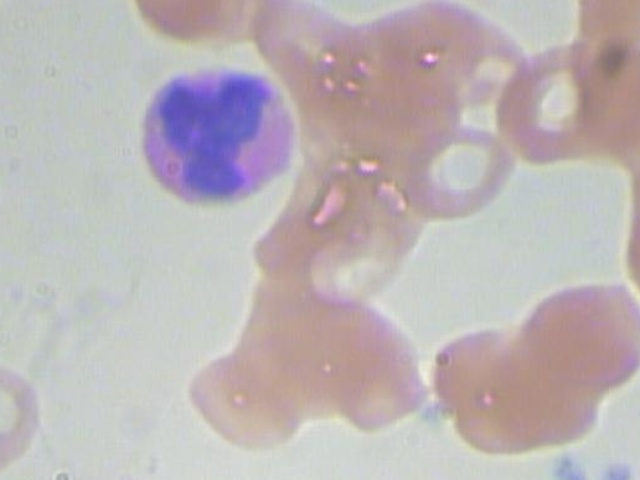Platelets: (549, 447, 596, 480), (594, 452, 640, 480)
RBC: (483, 39, 616, 171), (518, 266, 640, 396), (421, 312, 539, 436), (312, 314, 430, 437), (187, 343, 314, 455), (244, 0, 366, 105), (400, 115, 519, 222), (0, 348, 51, 480)
WBC: (118, 47, 308, 224)
